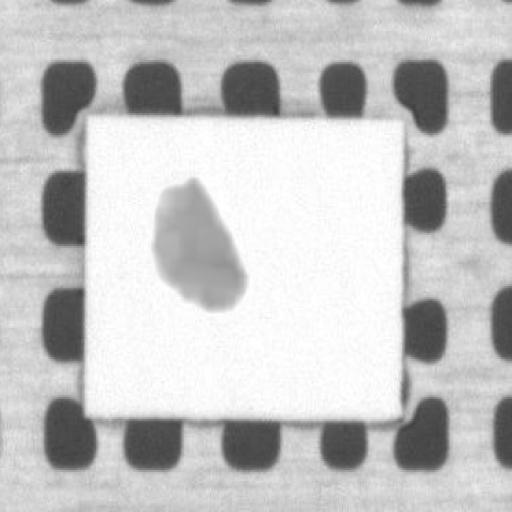DIE_INK: (142, 173, 246, 312)
